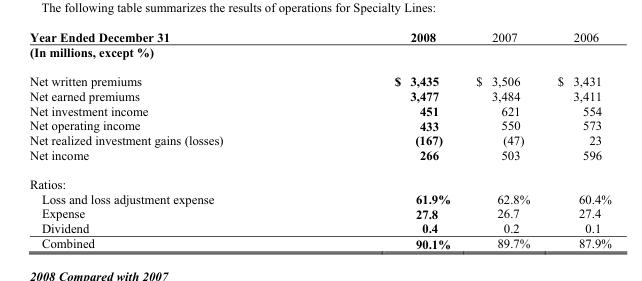table: (28, 29, 610, 250)
table column: (28, 29, 308, 250), (308, 29, 462, 250), (462, 29, 543, 250), (543, 29, 610, 250)
table column header: (28, 29, 610, 44)
table projected row header: (28, 44, 610, 66), (28, 169, 610, 191)
table row: (28, 44, 610, 66), (28, 66, 610, 88), (28, 147, 610, 169), (28, 169, 610, 191), (28, 29, 610, 44), (28, 88, 610, 103), (28, 117, 610, 132), (28, 132, 610, 147), (28, 205, 610, 220), (28, 220, 610, 235), (28, 235, 610, 250), (28, 103, 610, 117), (28, 191, 610, 205)
